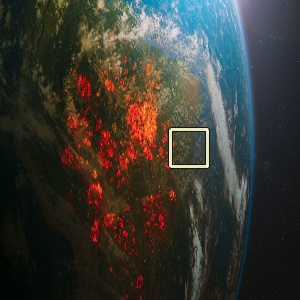square: (167, 126, 210, 169)
